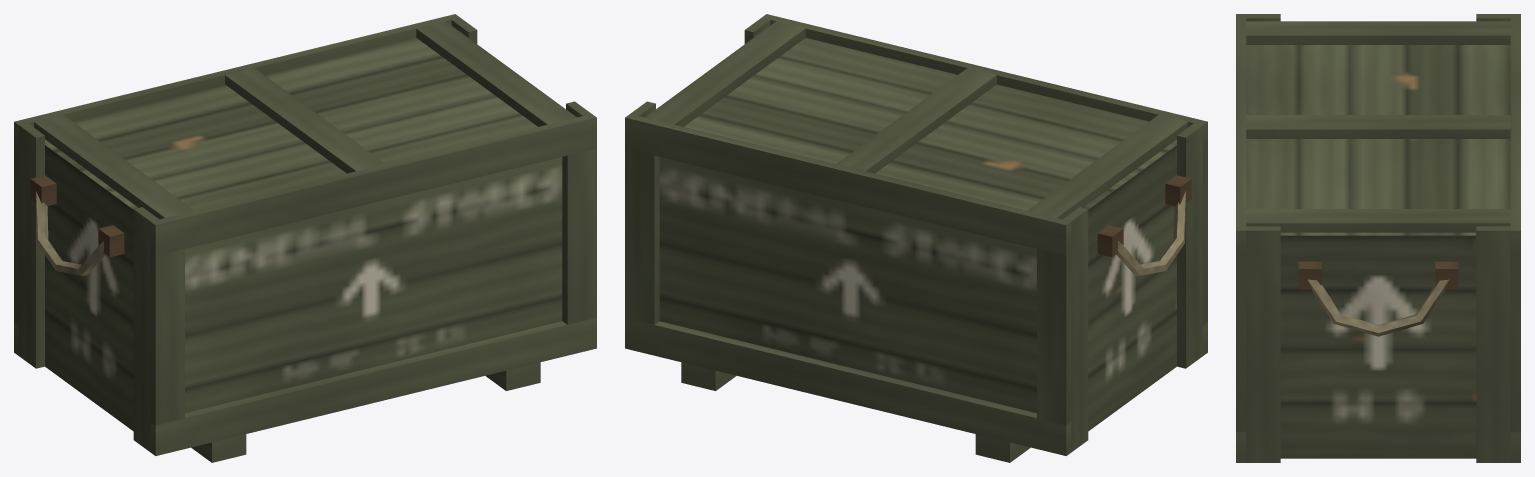
File: crate_military.fbx
3 renders of one model, left to right at view 1: azimuth 30°, elevation 25°; view 2: azimuth 150°, elevation 25°; view 3: azimuth 270°, elevation 25°, orthographic.
Visible parts, largest first — view 1: crate_military; view 2: crate_military; view 3: crate_military.
Part boxes in pixels (<box>): crate_military: <box>14,14,596,462</box>; crate_military: <box>625,14,1207,462</box>; crate_military: <box>1236,14,1520,462</box>.
Bounding box in the file's own units: 1.02 × 0.49 × 0.5.
Materials: 1 (1 with a texture image).
